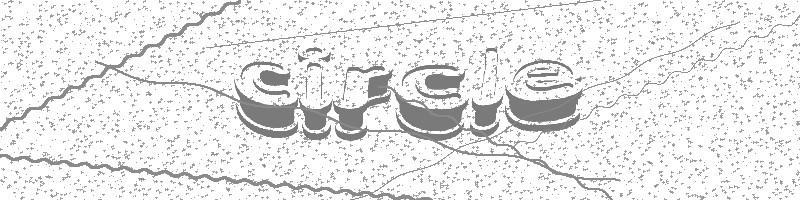c: (395, 65, 467, 140), (235, 61, 299, 138)
e: (505, 61, 583, 131)
i: (299, 48, 332, 139)
l: (473, 48, 501, 135)
r: (334, 65, 392, 141)
